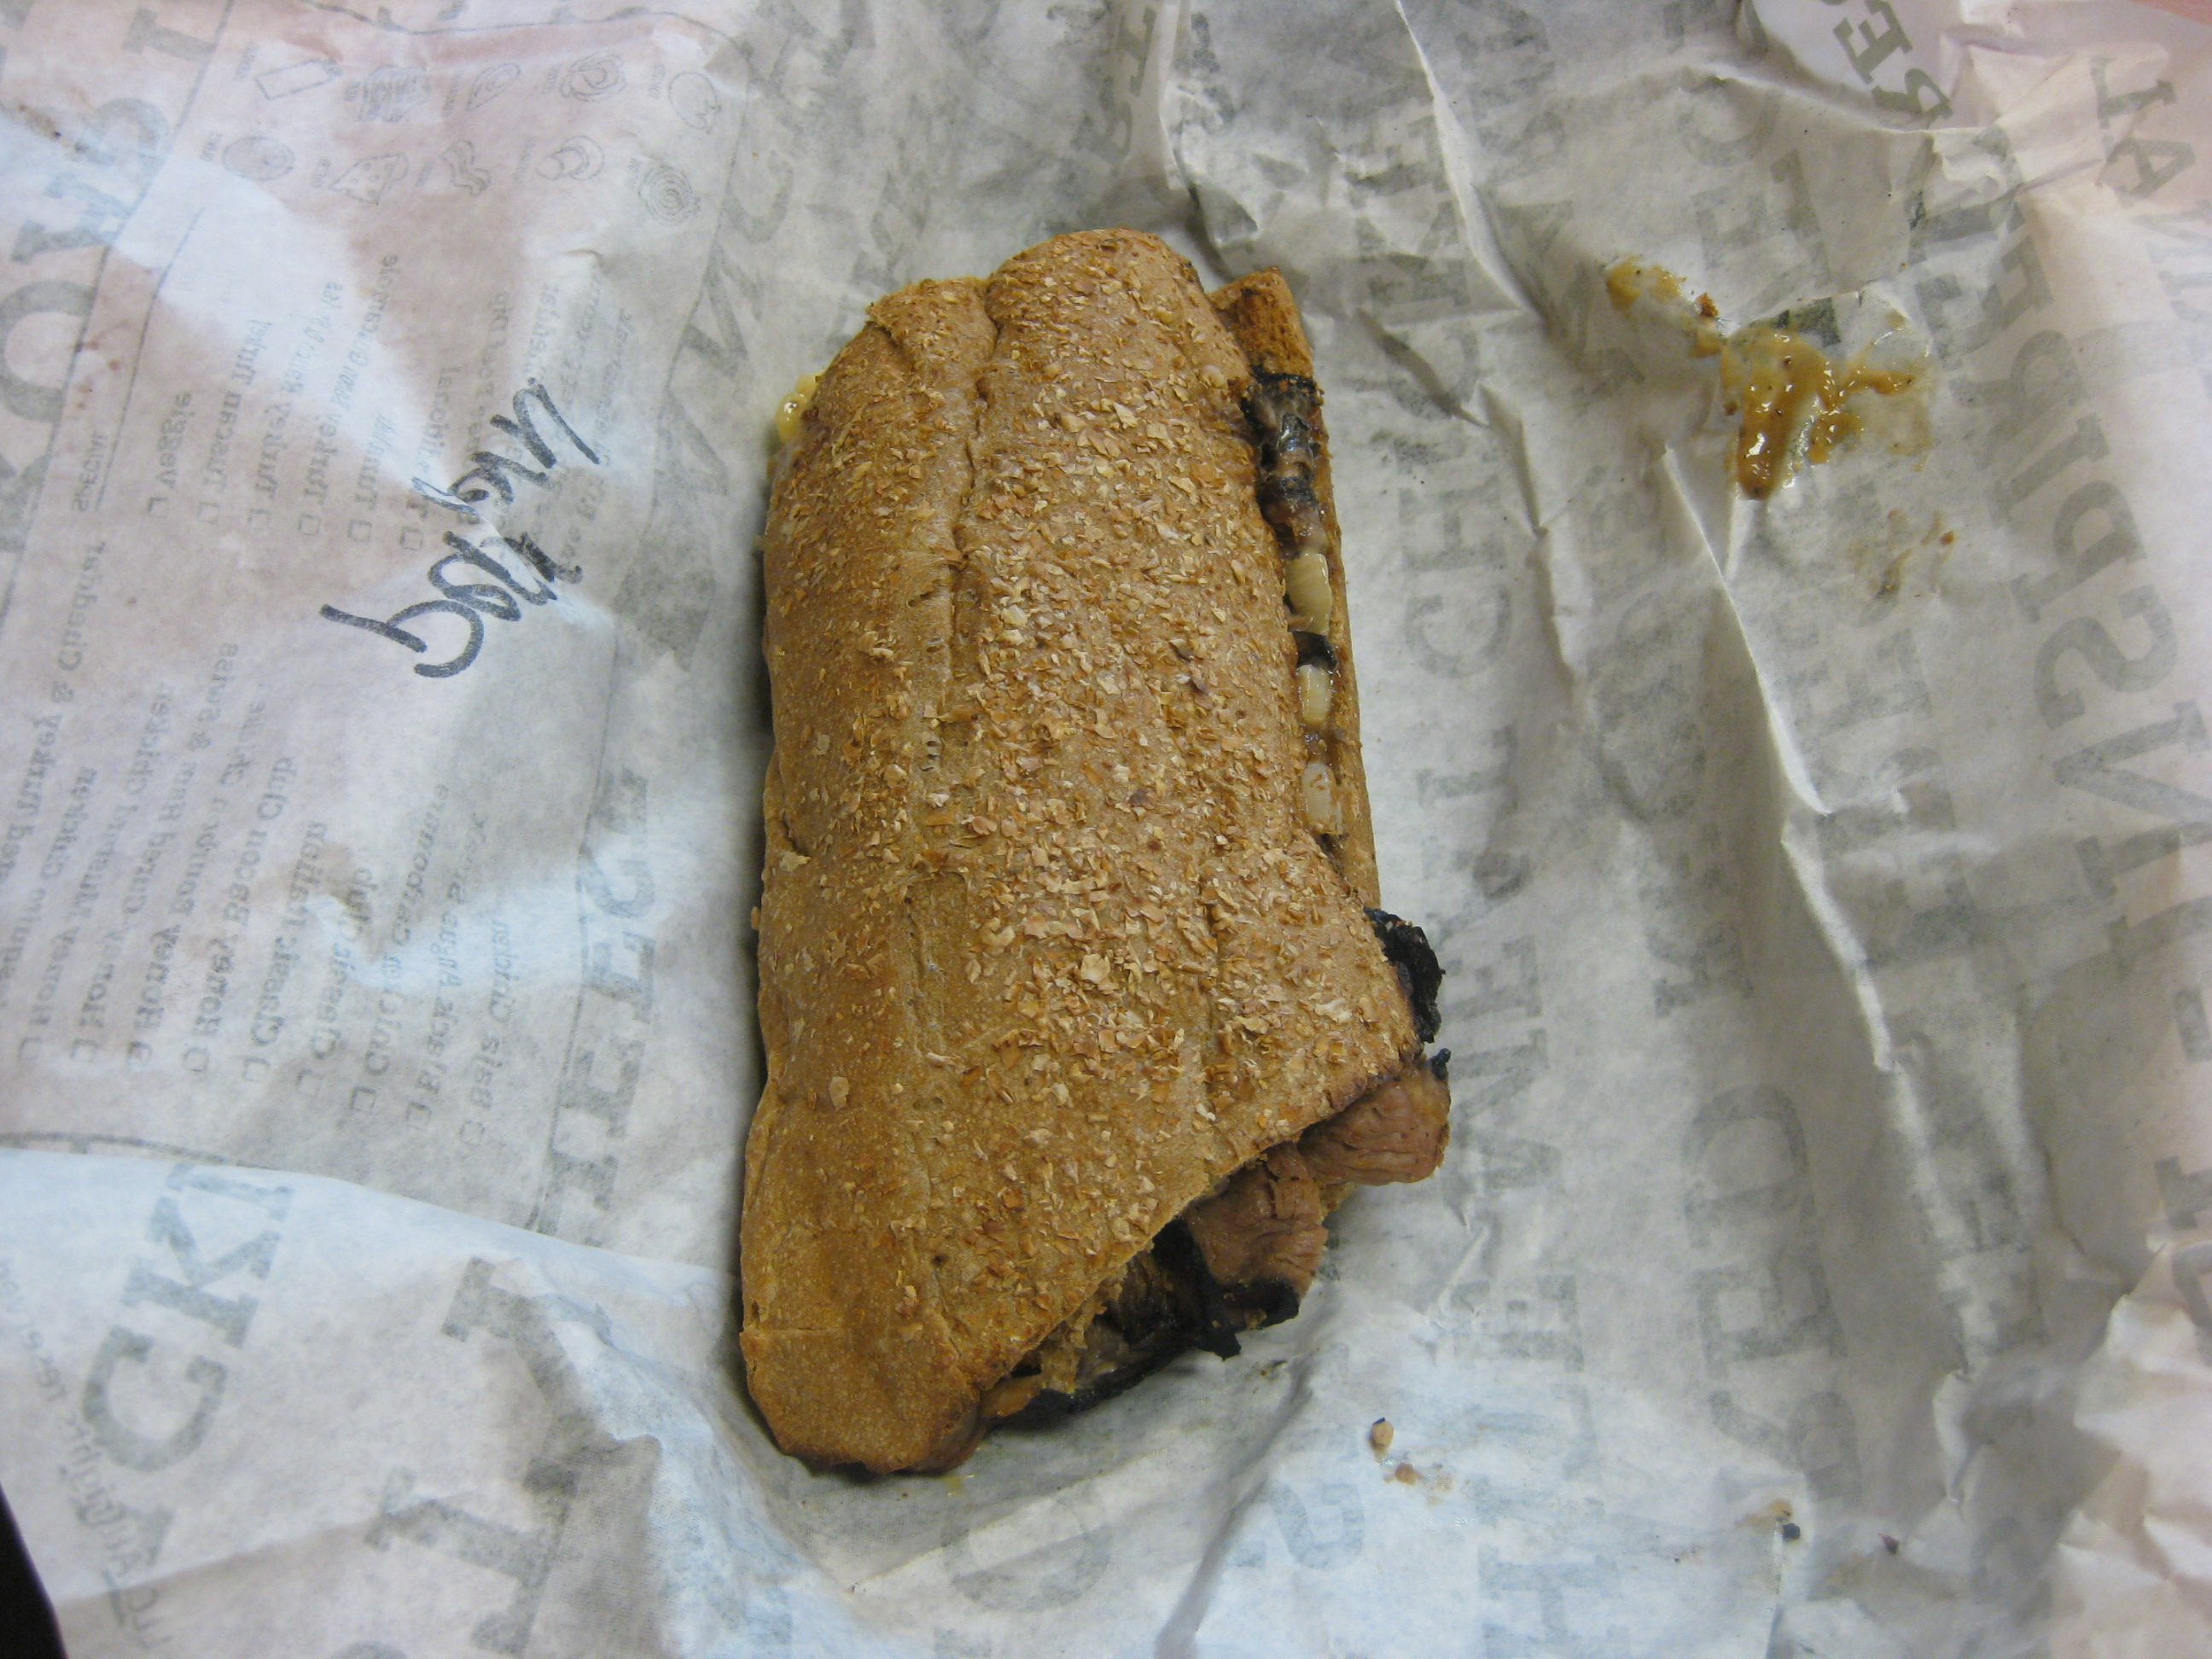sub: (695, 198, 1491, 1482)
